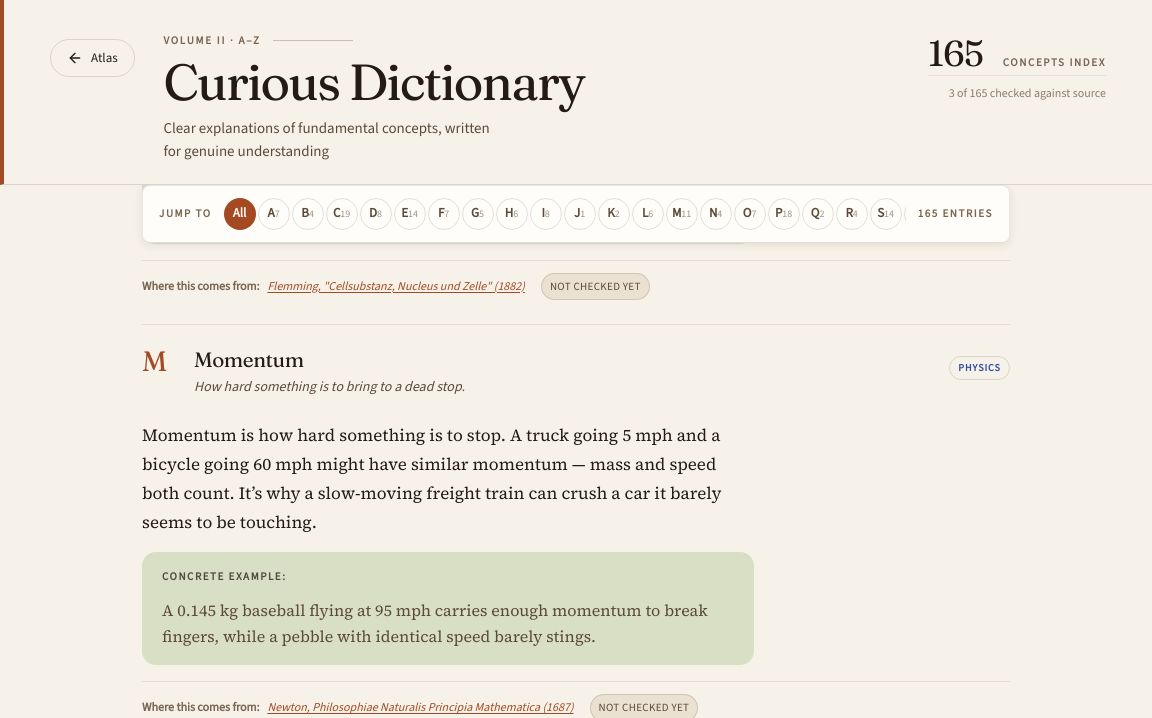
Scenario: following a thread from one entry to the next › an opened entry offers other entries
The width and height of the screenshot is (1152, 718).
(page scrolled)
Click the heading "Momentum". click: (249, 360)
box: [194, 347, 304, 372]
(page scrolled)
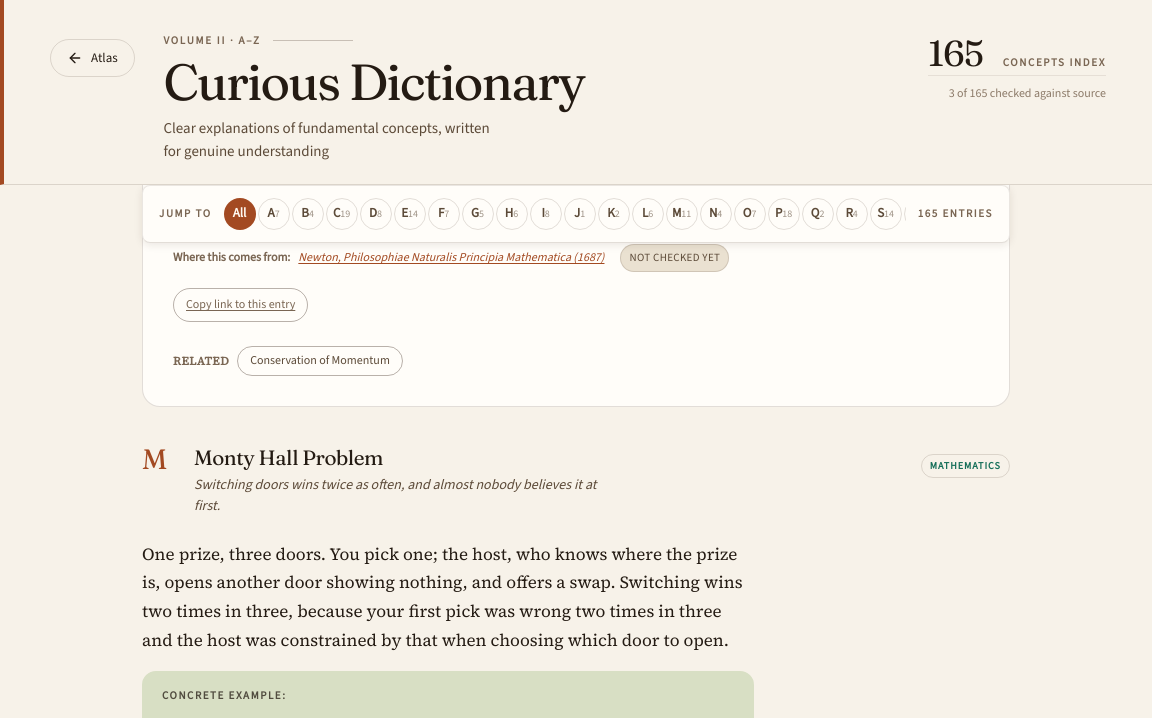
Result: the button with test id "related-term" no longer shows "Momentum" at [237, 346, 403, 376]
